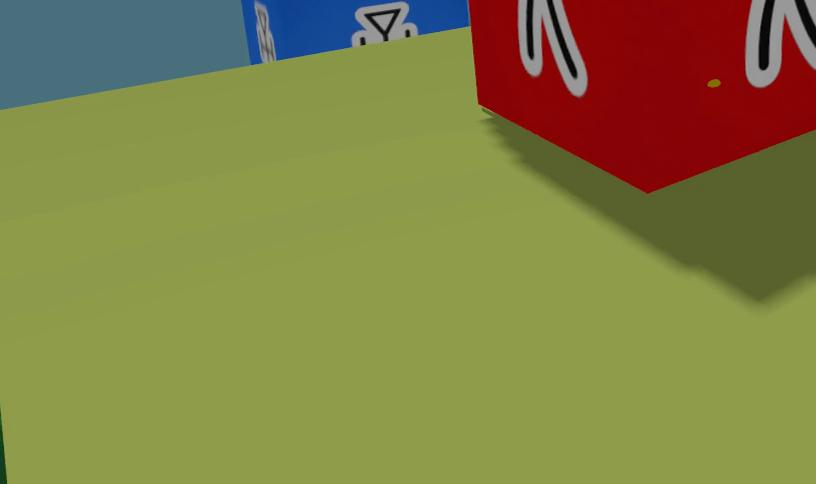KFS_FAKE: (468, 0, 816, 191), (516, 0, 587, 95), (745, 0, 816, 87)
KFS_REAL: (240, 0, 468, 62), (352, 2, 418, 46), (255, 1, 276, 62)
